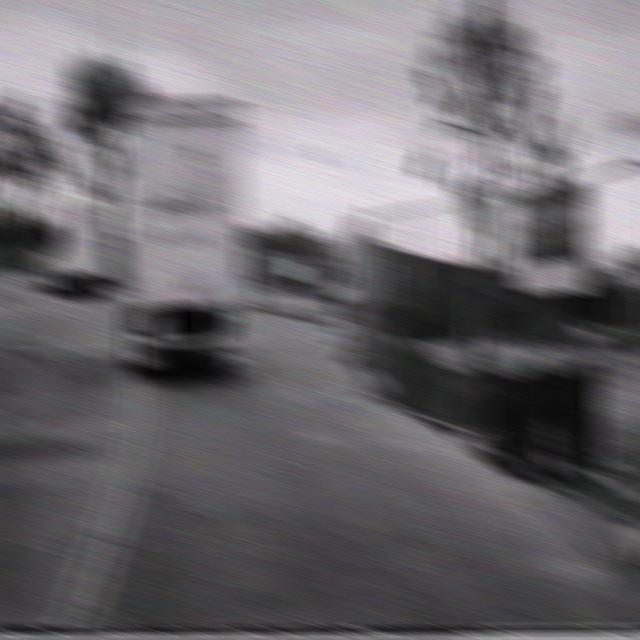stop: (458, 170, 503, 240)
